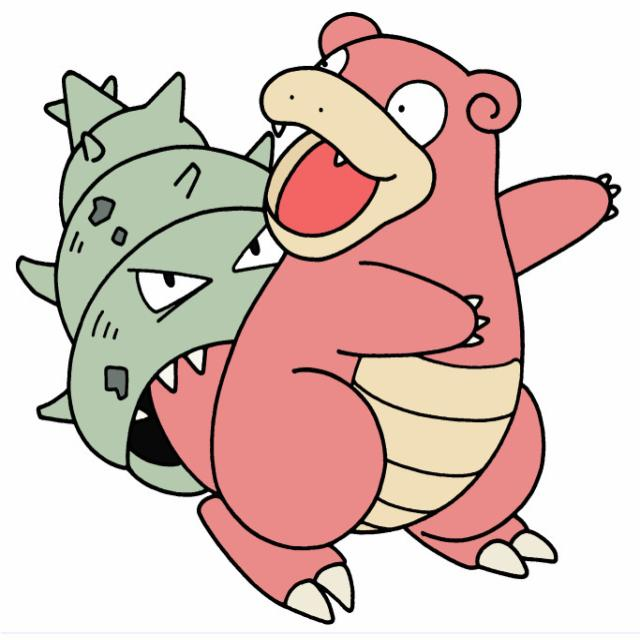Slowbro: (126, 16, 561, 607)
